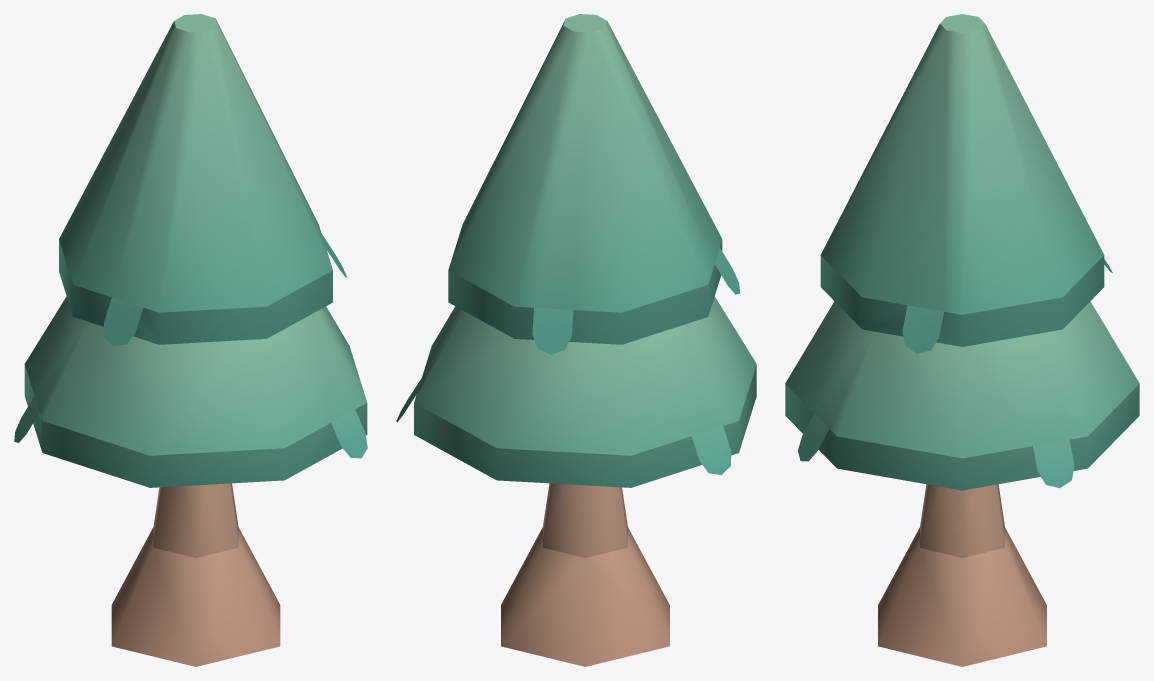
Rendered from tree-small.glb.
3 renders of one model, left to right at view 1: azimuth 30°, elevation 25°; view 2: azimuth 150°, elevation 25°; view 3: azimuth 270°, elevation 25°, orthographic.
Parts seen in each view (by area): view 1: tree-small; view 2: tree-small; view 3: tree-small.
Boxes of the visible parts, x1,y1,x2,y2 form: tree-small: (14, 14, 367, 666); tree-small: (396, 14, 756, 666); tree-small: (785, 14, 1139, 666).
Size of the model in its own units: 0.7381 by 1.35 by 0.72.
